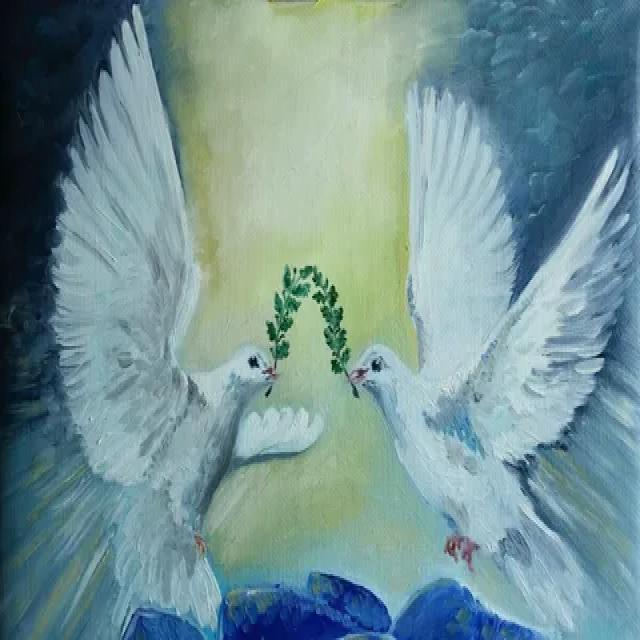pigeon: (340, 78, 640, 574)
